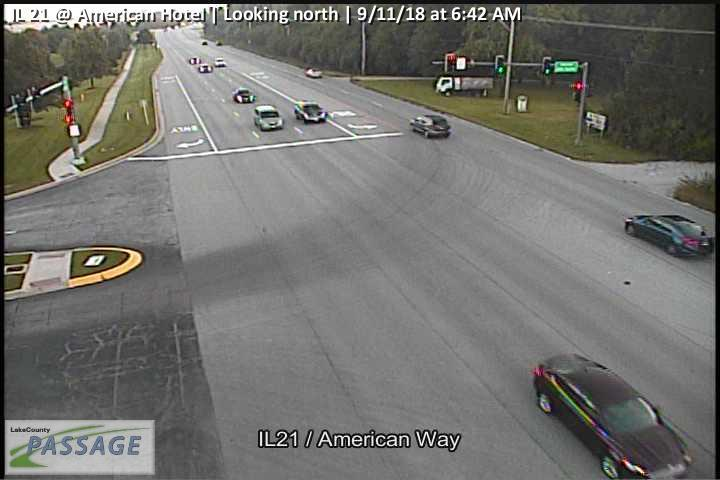Sedan: (531, 353, 692, 480), (623, 212, 713, 258), (407, 113, 449, 137), (253, 105, 283, 131), (293, 100, 326, 123), (234, 87, 255, 103), (305, 68, 321, 77)
Truck: (435, 75, 494, 97)
